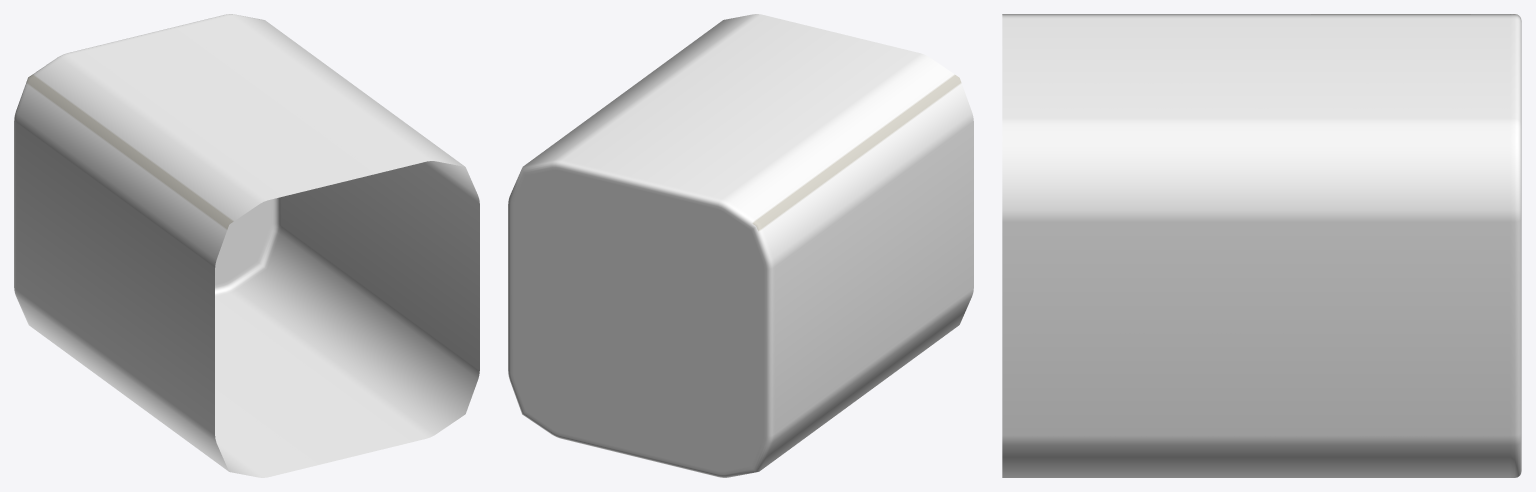
Rendered from D_Trashcan.fbx.
3 renders of one model, left to right at view 1: azimuth 30°, elevation 25°; view 2: azimuth 150°, elevation 25°; view 3: azimuth 270°, elevation 25°, orthographic. The views are drawn at different scales.
Visible parts, largest first — view 1: D_Trashcan; view 2: D_Trashcan; view 3: D_Trashcan.
Part boxes in pixels (x1,y1,x2,y2): D_Trashcan: (14,14,479,477); D_Trashcan: (508,14,973,477); D_Trashcan: (1002,14,1521,477).
Size of the model in its own units: 125 by 125 by 166.
